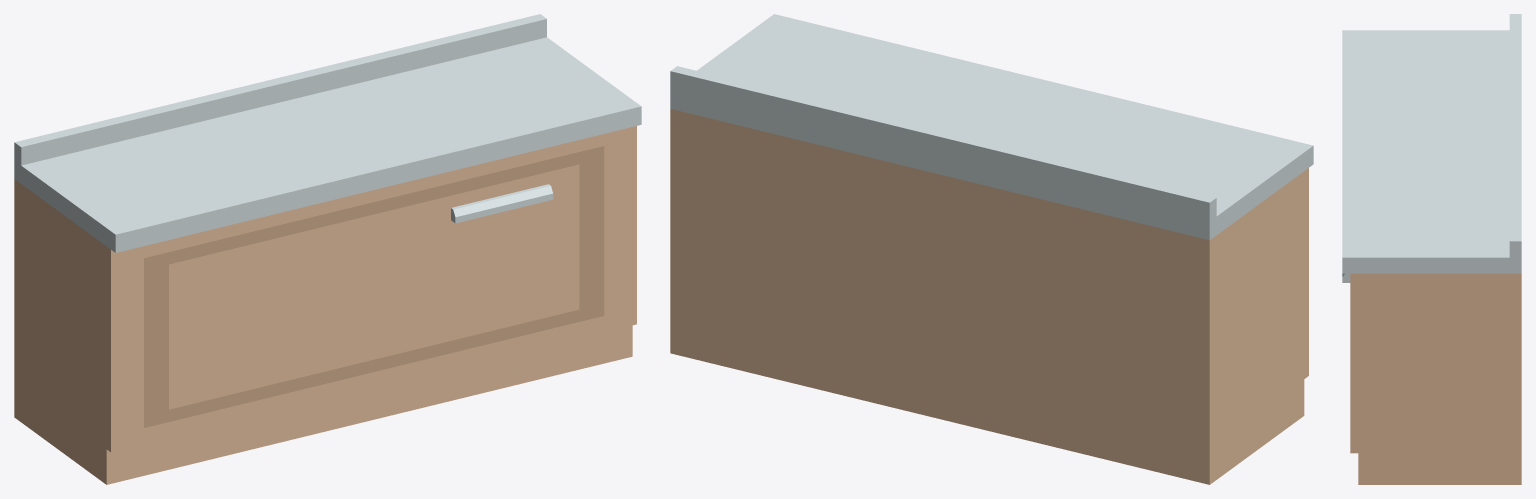
File: kitchen-counter.glb
The picture shows the model from 3 angles, left to right: view 1: azimuth 30°, elevation 25°; view 2: azimuth 150°, elevation 25°; view 3: azimuth 270°, elevation 25°; orthographic projection. The views are drawn at different scales.
Parts seen in each view (by area): view 1: kitchenCabinet(Clone), door; view 2: kitchenCabinet(Clone); view 3: kitchenCabinet(Clone).
Boxes of the visible parts, bbox=[...] form: kitchenCabinet(Clone): bbox=[14, 14, 641, 484]; door: bbox=[144, 146, 604, 427]; kitchenCabinet(Clone): bbox=[670, 14, 1313, 484]; kitchenCabinet(Clone): bbox=[1342, 14, 1521, 484].
Bounding box in the file's own units: 1.8 × 0.9 × 0.6.
